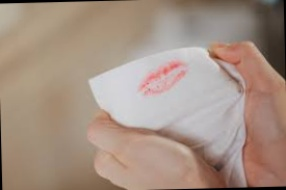lipstick: (135, 58, 192, 104)
